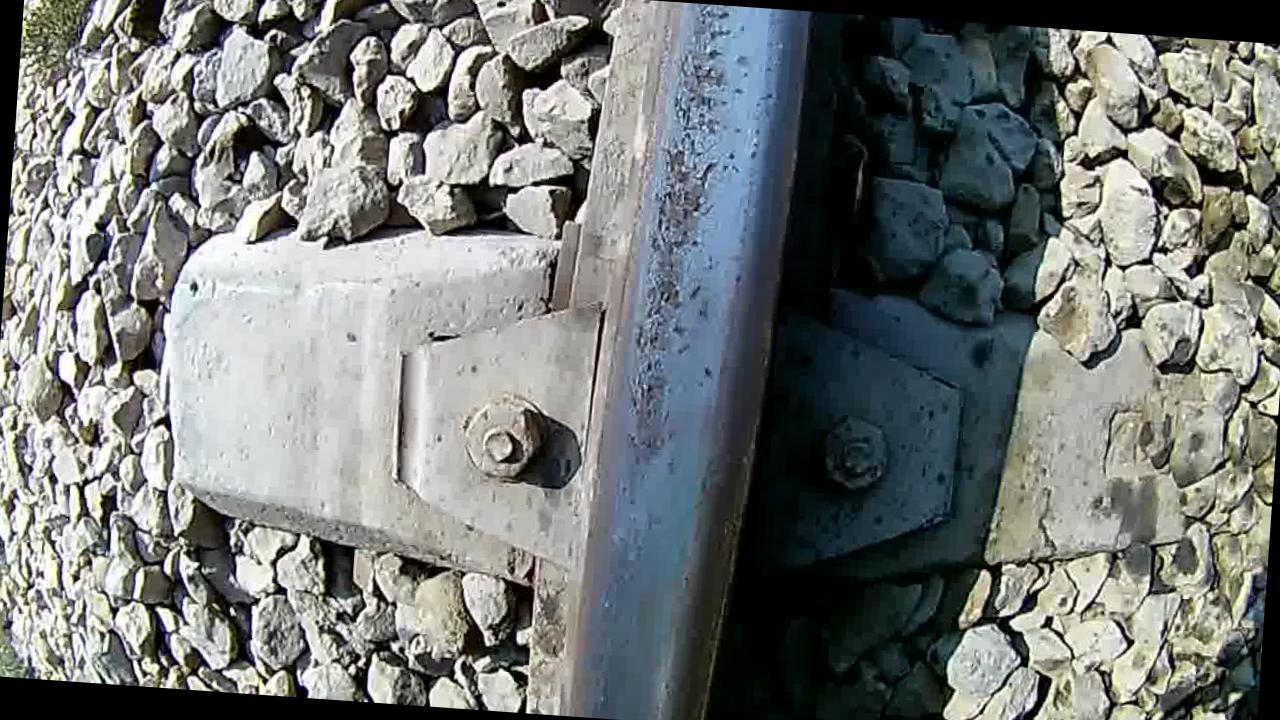crack: (575, 0, 812, 720)
